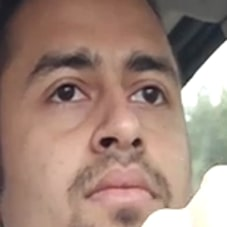awake: (22, 42, 176, 227)
